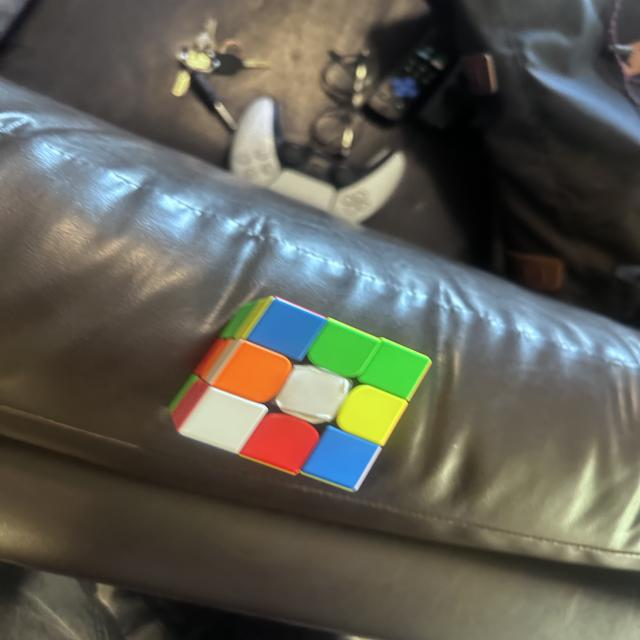sticker: (173, 383, 270, 455), (198, 338, 292, 404), (236, 410, 322, 478), (299, 425, 383, 493), (245, 296, 328, 362), (273, 364, 352, 426), (334, 384, 410, 447), (358, 338, 432, 402), (306, 319, 382, 379), (168, 376, 212, 430), (220, 297, 270, 342), (195, 337, 239, 381)
